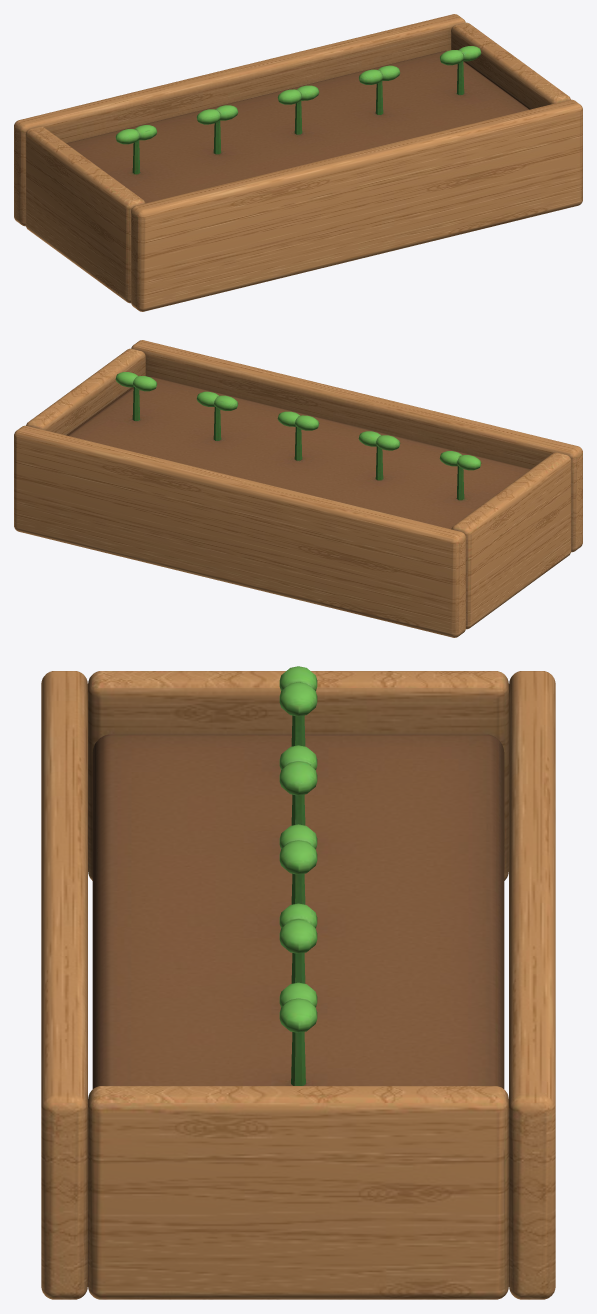
File: garden_bed.glb
3 renders of one model, top to bottom at view 1: azimuth 30°, elevation 25°; view 2: azimuth 150°, elevation 25°; view 3: azimuth 270°, elevation 25°, orthographic. The views are drawn at different scales.
Parts seen in each view (by area): view 1: garden_bed; view 2: garden_bed; view 3: garden_bed.
Boxes of the visible parts, x1=… form: garden_bed: x1=14, y1=14, x2=582, y2=311; garden_bed: x1=14, y1=340, x2=582, y2=637; garden_bed: x1=41, y1=666, x2=555, y2=1299.
Size of the model in its own units: 1.1 by 0.295 by 0.55.
Materials: 1 (1 with a texture image).
